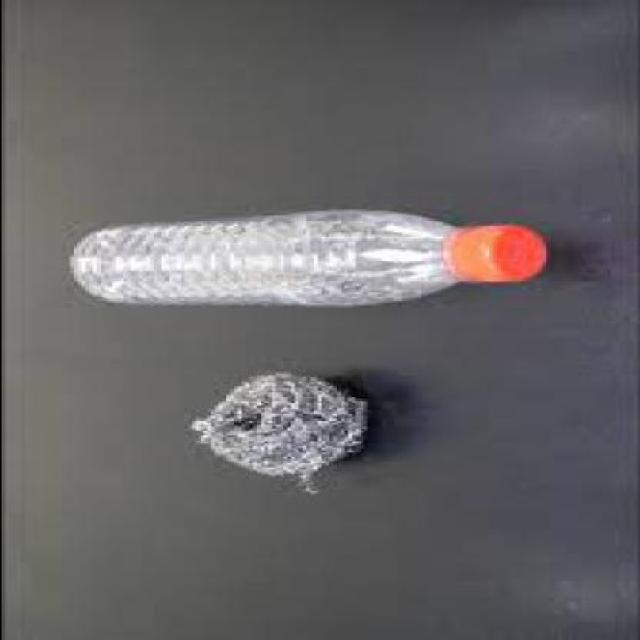METAL: (183, 372, 362, 493)
PLASTIC: (66, 207, 548, 305), (438, 220, 548, 282)
